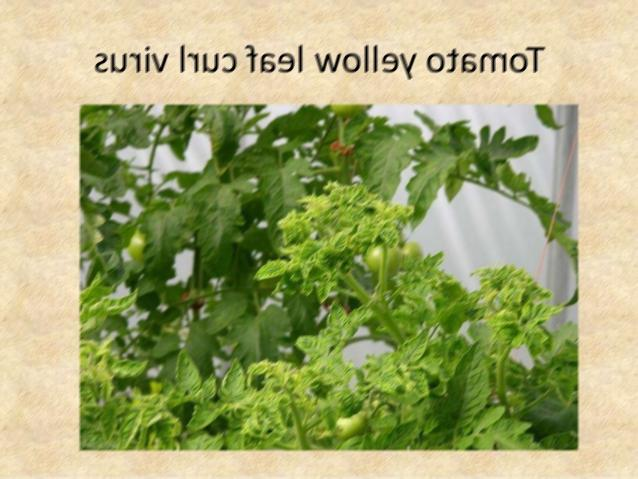Tomato leaf yellow virus: (165, 345, 201, 394), (395, 325, 436, 363), (256, 391, 288, 437), (95, 285, 142, 316), (219, 358, 248, 408), (365, 362, 404, 398), (517, 304, 565, 331), (248, 257, 294, 283), (110, 355, 152, 383), (483, 310, 515, 343), (327, 300, 349, 346), (290, 335, 327, 360), (302, 375, 337, 401), (354, 220, 378, 248), (383, 219, 400, 257), (294, 241, 321, 264), (281, 216, 303, 240), (325, 230, 347, 254), (343, 386, 360, 416)
